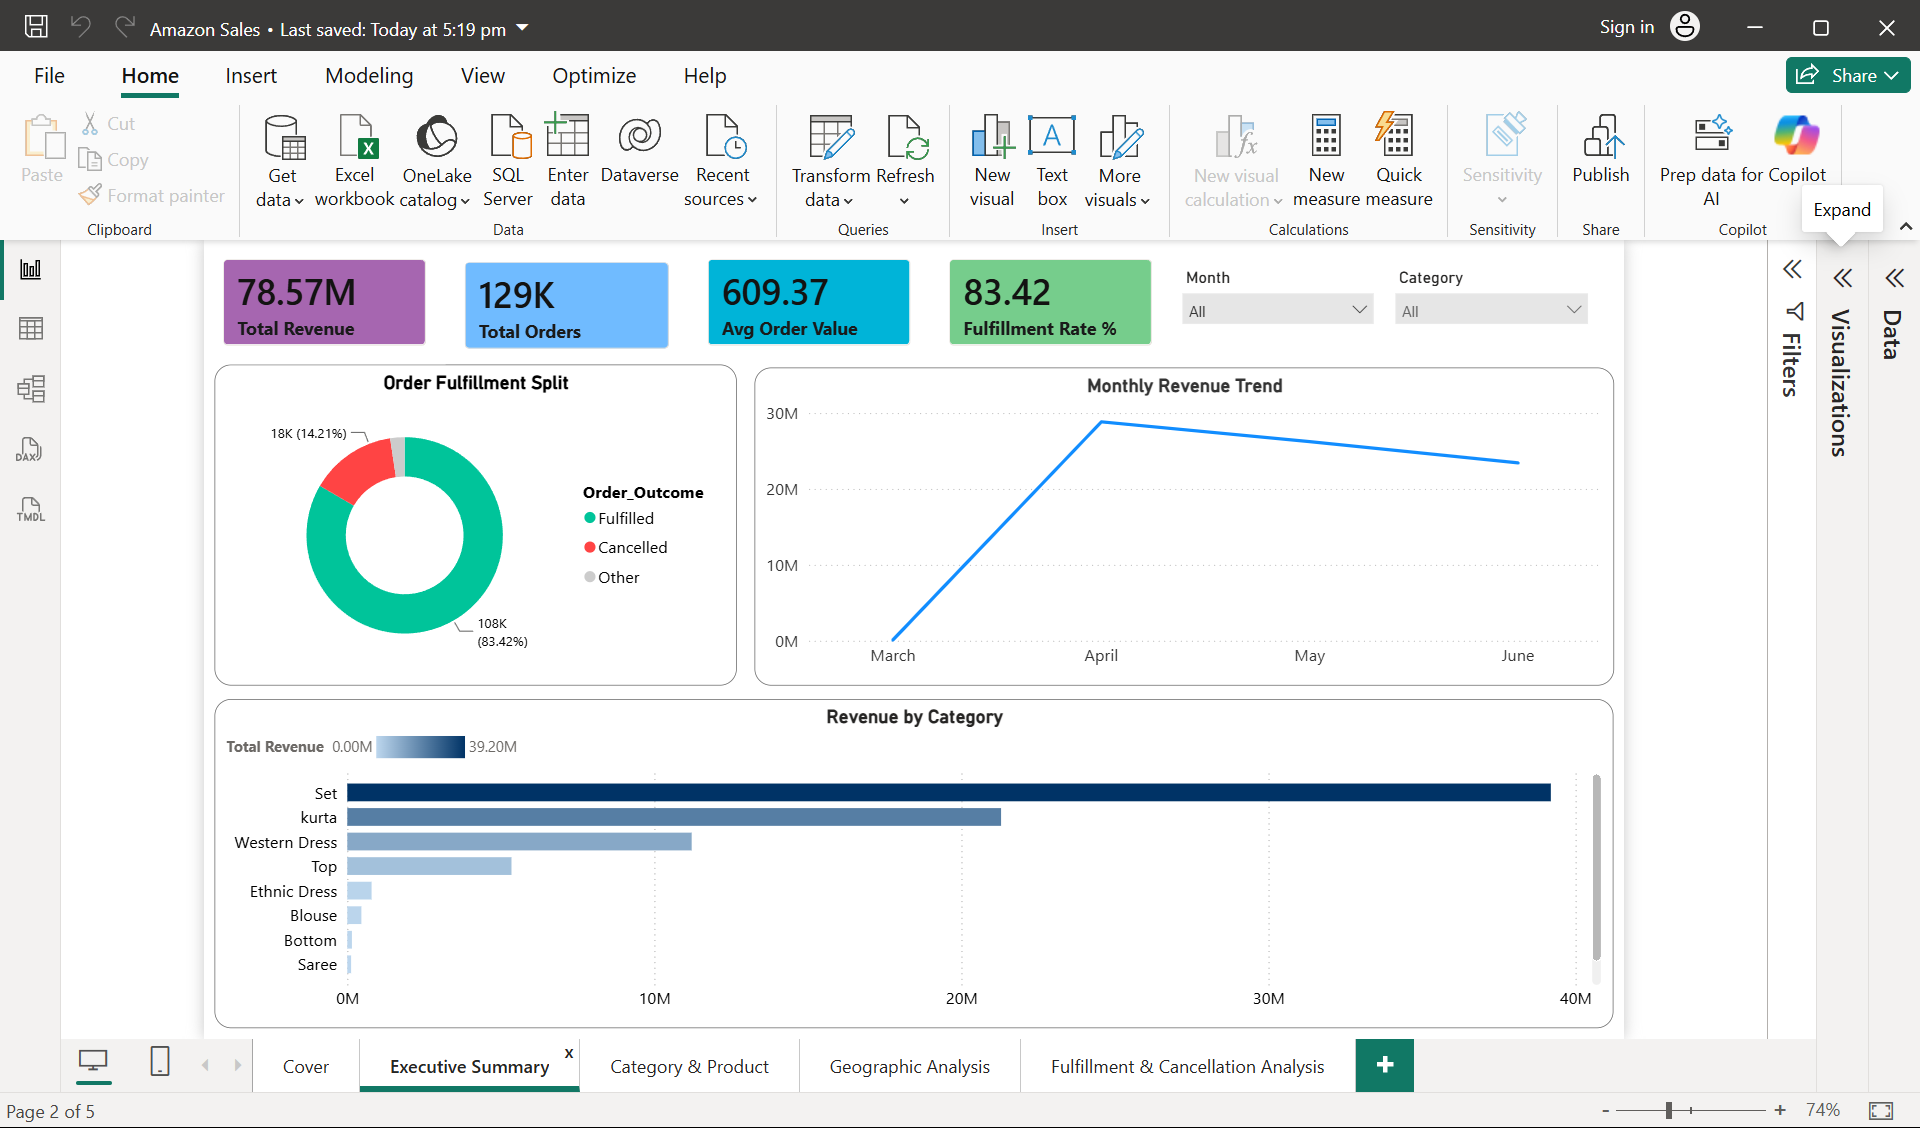

The dashboard page shown, as its layout file describes it:
{"tool":"powerbi","page":{"name":"Executive Summary","canvas":[1280,720],"ordinal":1},"visuals":[{"type":"cardVisual","fields":{"Data":["powerbi_category_summary.Total Orders"]},"box":[217.6,2.7,219,112.2],"z":0},{"type":"cardVisual","fields":{"Data":["powerbi_category_summary.Avg Order Value"]},"box":[436.6,0,217.6,112.2],"z":1000},{"type":"cardVisual","fields":{"Data":["powerbi_category_summary.Fulfillment Rate %"]},"box":[654.2,0,217.6,112.2],"z":2000},{"type":"lineChart","title":"Monthly Revenue Trend","fields":{"Y":["powerbi_category_summary.Total Revenue"],"Category":["powerbi_main_data.Date.Variation.Date Hierarchy.Month"]},"box":[496.1,114.9,774.5,286.6],"z":3000},{"type":"clusteredBarChart","title":"Revenue by Category","fields":{"Category":["powerbi_main_data.Category"],"Y":["powerbi_category_summary.Total Revenue"]},"box":[9.3,413.5,1260.8,296.9],"z":4000},{"type":"slicer","fields":{"Values":["powerbi_main_data.Category"]},"box":[1063.8,20.3,193.3,66.2],"z":5000},{"type":"slicer","fields":{"Values":["powerbi_main_data.Month"]},"box":[871.9,20.3,191.9,66.2],"z":6000},{"type":"donutChart","title":"Order Fulfillment Split","fields":{"Category":["powerbi_main_data.Order_Outcome"],"Y":["powerbi_category_summary.Total Orders"]},"box":[9.5,112.2,470.4,289.3],"z":7000},{"type":"cardVisual","fields":{"Data":["powerbi_category_summary.Total Revenue"]},"box":[0,0,217.6,112.2],"z":9000}]}

Visuals, with their boxes on the page's 1280x720 design canvas (x1, y1, x2, y2). These are canvas units, not pixel positions in the 1920x1128 screenshot, which may show the page scaled, cropped or inside an application window:
cardVisual - powerbi_category_summary.Total Orders: 218/3/437/115
cardVisual - powerbi_category_summary.Avg Order Value: 437/0/654/112
cardVisual - powerbi_category_summary.Fulfillment Rate %: 654/0/872/112
"Monthly Revenue Trend" lineChart: 496/115/1271/402
"Revenue by Category" clusteredBarChart: 9/414/1270/710
slicer - powerbi_main_data.Category: 1064/20/1257/86
slicer - powerbi_main_data.Month: 872/20/1064/86
"Order Fulfillment Split" donutChart: 10/112/480/402
cardVisual - powerbi_category_summary.Total Revenue: 0/0/218/112
